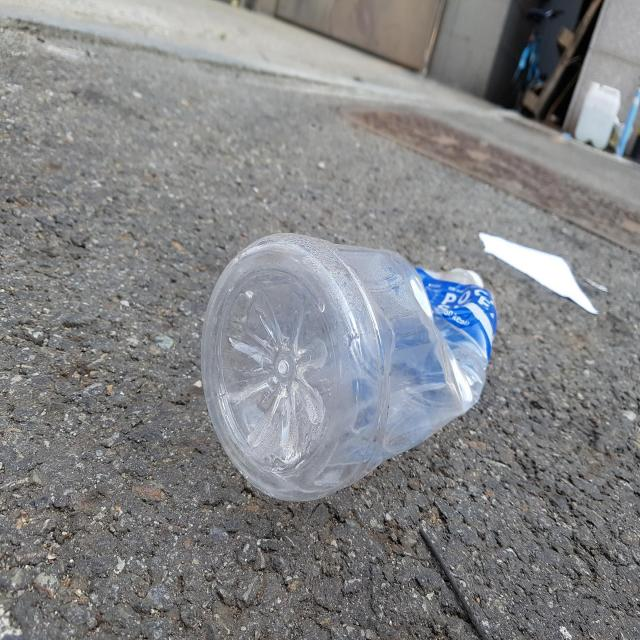plastic: (201, 234, 498, 502)
